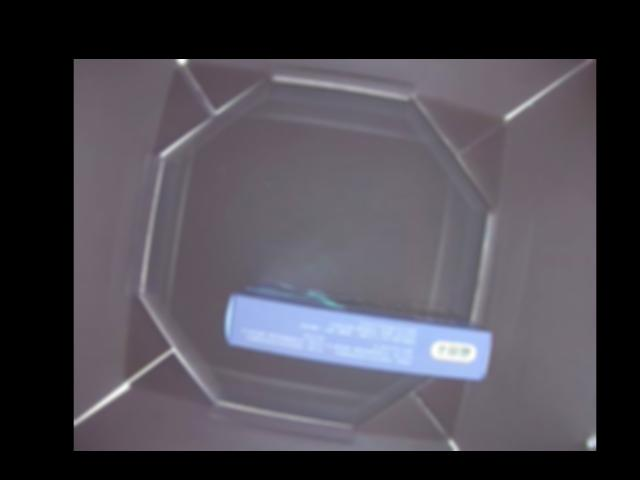Medicine: (223, 281, 490, 381)
